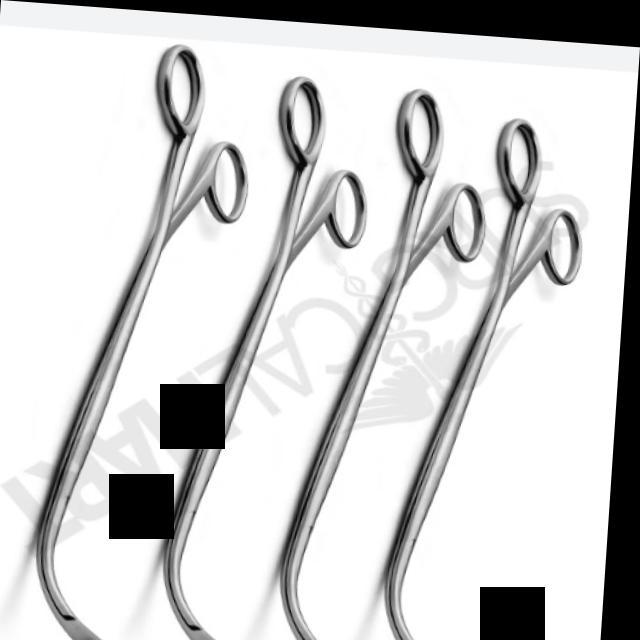Randall: (31, 32, 278, 640), (384, 90, 620, 640), (277, 68, 498, 640), (166, 61, 383, 640)
